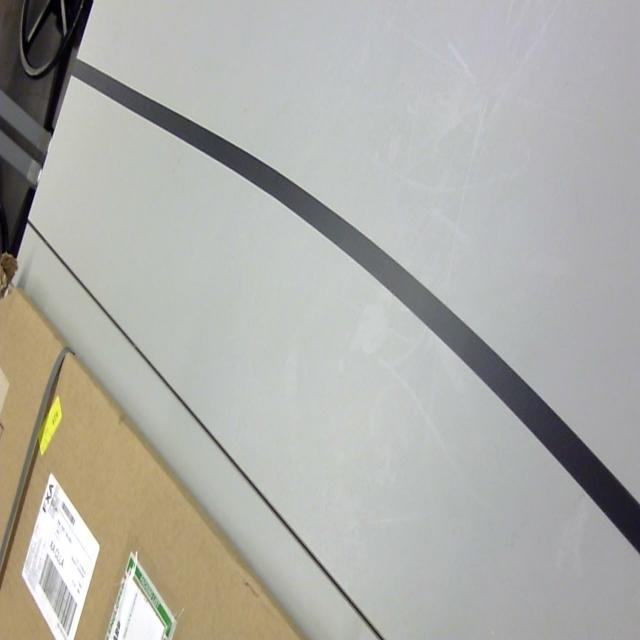tape: (59, 38, 640, 584)
